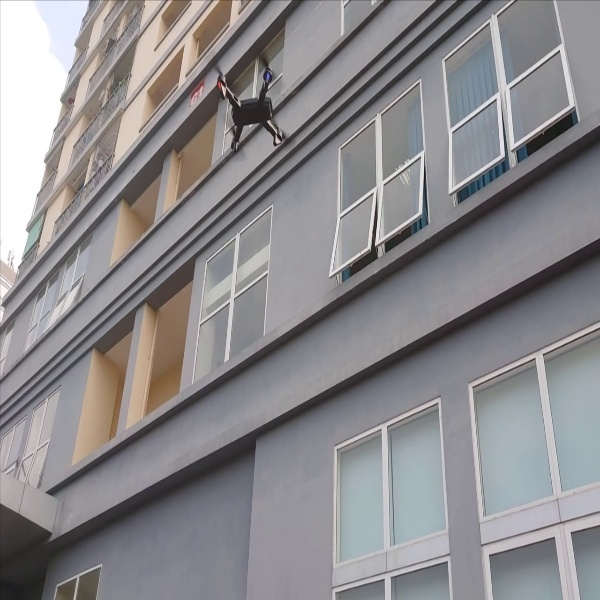drone: (212, 45, 297, 153)
